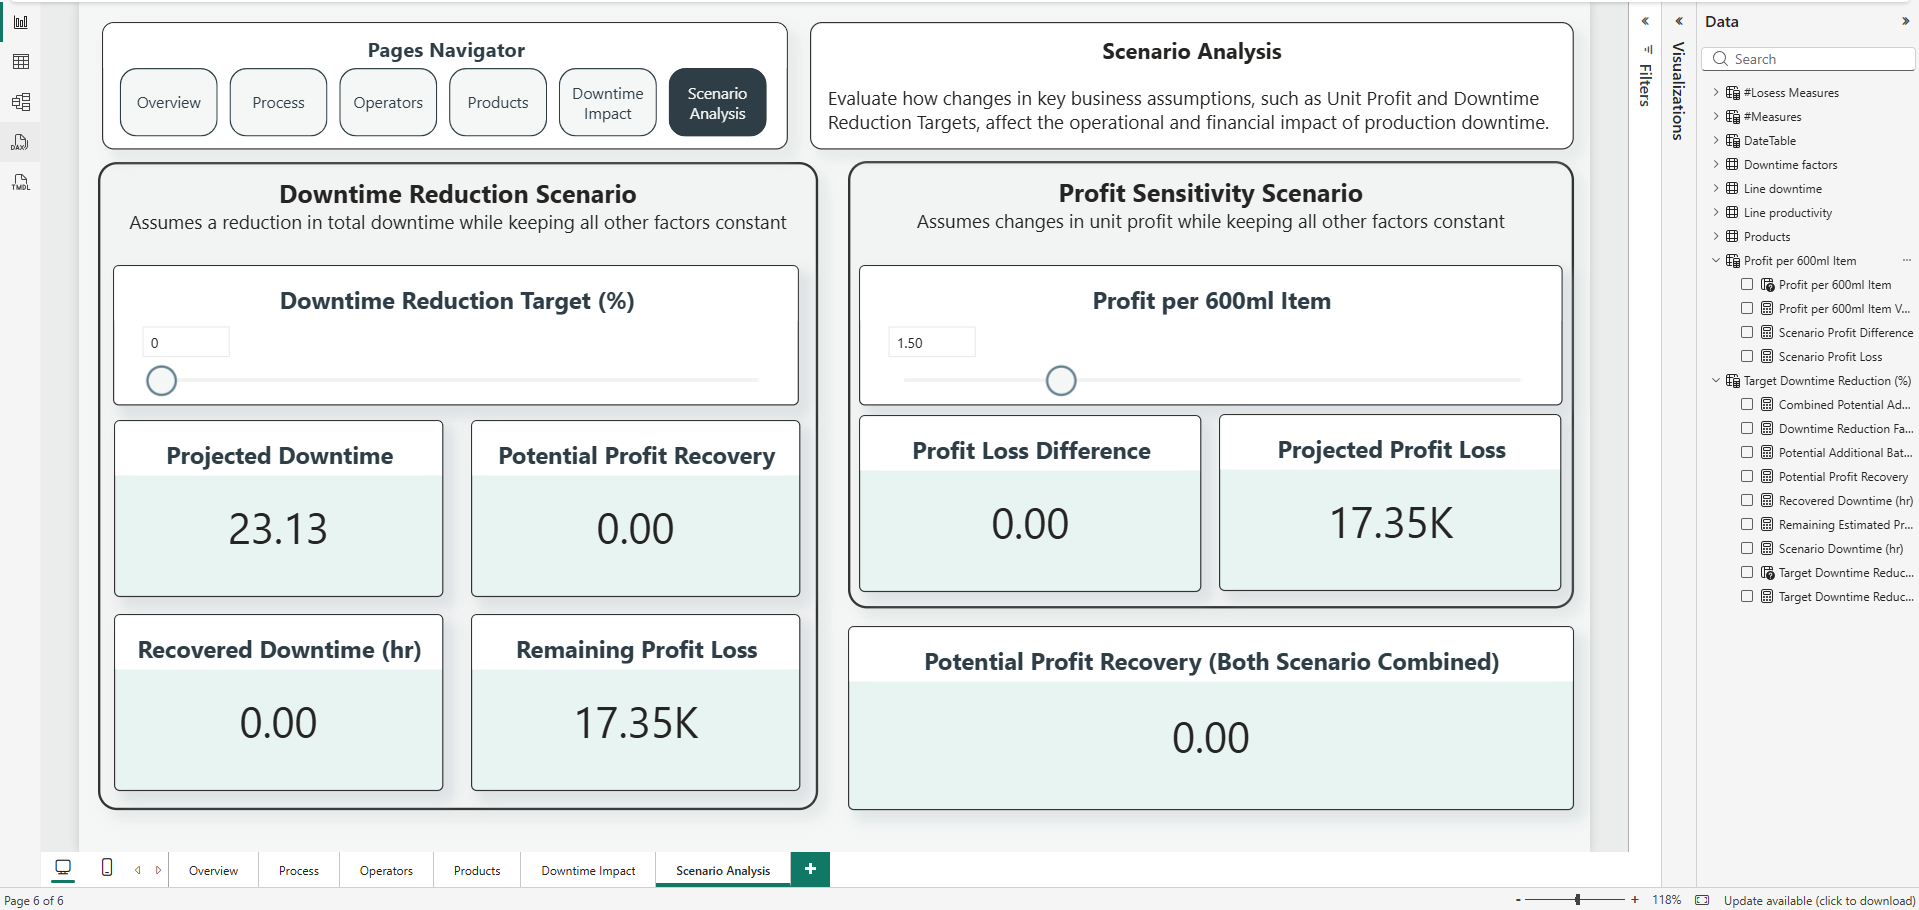

What the dashboard file says about the page in this screenshot:
{"tool":"powerbi","page":{"name":"Scenario Analysis","canvas":[1280,720],"ordinal":5},"visuals":[{"type":"textbox","box":[651.4,144.5,614.8,379.5],"z":0},{"type":"textbox","box":[16.4,144.7,609.9,548.6],"z":1000},{"type":"slicer","title":"Downtime Reduction Target (%)","fields":{"Values":["Target Downtime Reduction (%).Target Downtime Reduction (%)"]},"box":[28.9,232.1,581.4,119],"z":2000},{"type":"slicer","title":"Profit per 600ml Item","fields":{"Values":["Profit per 600ml Item.Profit per 600ml Item"]},"box":[660.8,232.1,595.8,119],"z":3000},{"type":"card","title":"Profit Loss Difference","fields":{"Values":["Profit per 600ml Item.Scenario Profit Difference"]},"box":[660.4,359.1,290,149.7],"z":4000},{"type":"card","title":"Projected Profit Loss","fields":{"Values":["Profit per 600ml Item.Scenario Profit Loss"]},"box":[965.8,358.1,290.4,149.7],"z":5000},{"type":"card","title":"Projected Downtime","fields":{"Values":["Target Downtime Reduction (%).Scenario Downtime (min)"]},"box":[29.3,363.5,278.6,150.1],"z":6000},{"type":"card","title":"Recovered Downtime (hr)","fields":{"Values":["Target Downtime Reduction (%).Recovered Downtime (min)"]},"box":[29.3,528.2,278.6,150.1],"z":7000},{"type":"card","title":"Potential Profit Recovery","fields":{"Values":["Target Downtime Reduction (%).Potential Profit Recovery"]},"box":[332.1,363.5,278.6,150.1],"z":8000},{"type":"card","title":"Remaining Profit Loss","fields":{"Values":["Target Downtime Reduction (%).Remaining Estimated Profit Loss"]},"box":[332.1,528.2,278.6,150.1],"z":9000},{"type":"card","title":"Potential Profit Recovery (Both Scenario Combined)","fields":{"Values":["Target Downtime Reduction (%).Combined Potential Additional Profit"]},"box":[651.8,537.7,614.8,155.9],"z":10000},{"type":"pageNavigator","title":"Pages Navigator","box":[19.5,26.4,581.4,108.2],"z":11000},{"type":"textbox","box":[620.1,27.3,647.2,108.4],"z":12000}]}

Visuals, with their boxes on the page's 1280x720 design canvas (x1, y1, x2, y2). These are canvas units, not pixel positions in the 1919x910 screenshot, which may show the page scaled, cropped or inside an application window:
textbox: l=651, t=144, r=1266, b=524
textbox: l=16, t=145, r=626, b=693
"Downtime Reduction Target (%)" slicer: l=29, t=232, r=610, b=351
"Profit per 600ml Item" slicer: l=661, t=232, r=1257, b=351
"Profit Loss Difference" card: l=660, t=359, r=950, b=509
"Projected Profit Loss" card: l=966, t=358, r=1256, b=508
"Projected Downtime" card: l=29, t=364, r=308, b=514
"Recovered Downtime (hr)" card: l=29, t=528, r=308, b=678
"Potential Profit Recovery" card: l=332, t=364, r=611, b=514
"Remaining Profit Loss" card: l=332, t=528, r=611, b=678
"Potential Profit Recovery (Both Scenario Combined)" card: l=652, t=538, r=1267, b=694
"Pages Navigator" pageNavigator: l=20, t=26, r=601, b=135
textbox: l=620, t=27, r=1267, b=136
